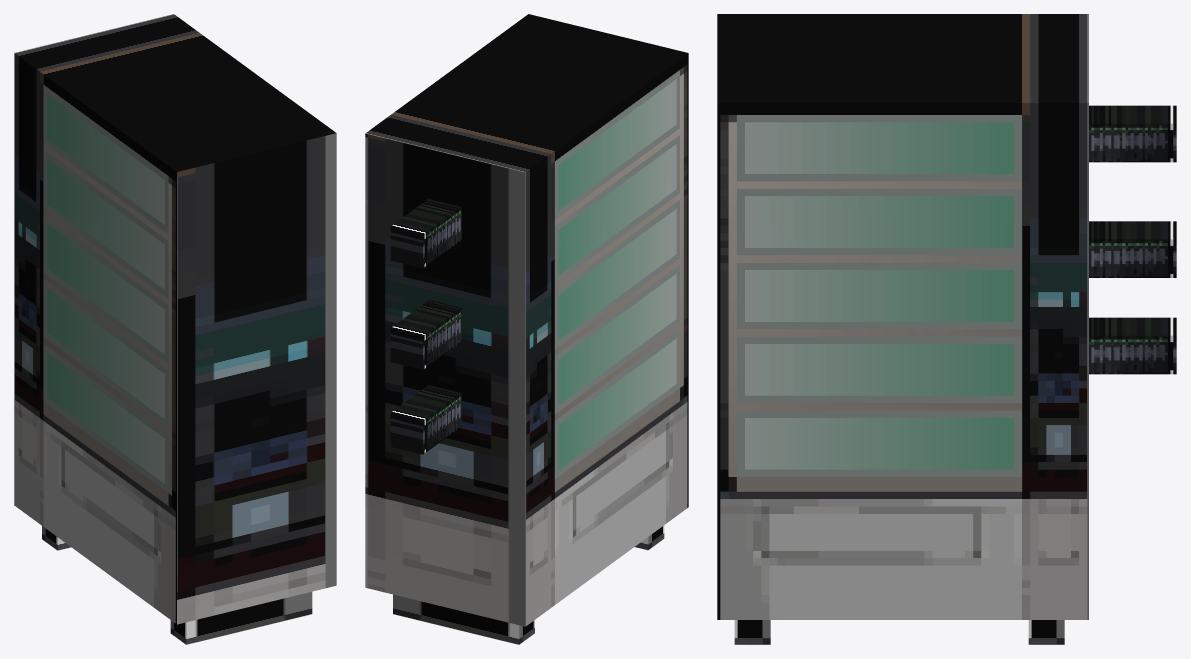
File: vENDING mACHINETwhole.glb
3 views of the same model, side by side, from view 1: azimuth 30°, elevation 25°; view 2: azimuth 150°, elevation 25°; view 3: azimuth 270°, elevation 25° (orthographic). The views are drawn at different scales.
Parts seen in each view (by area): view 1: Cube; view 2: Cube; view 3: Cube.
Boxes of the visible parts, <box> form: Cube: <box>14,14,336,644</box>; Cube: <box>365,14,688,644</box>; Cube: <box>717,14,1176,644</box>.
Size of the model in its own units: 2 by 5.78 by 4.37.
6 materials, 6 textured.
